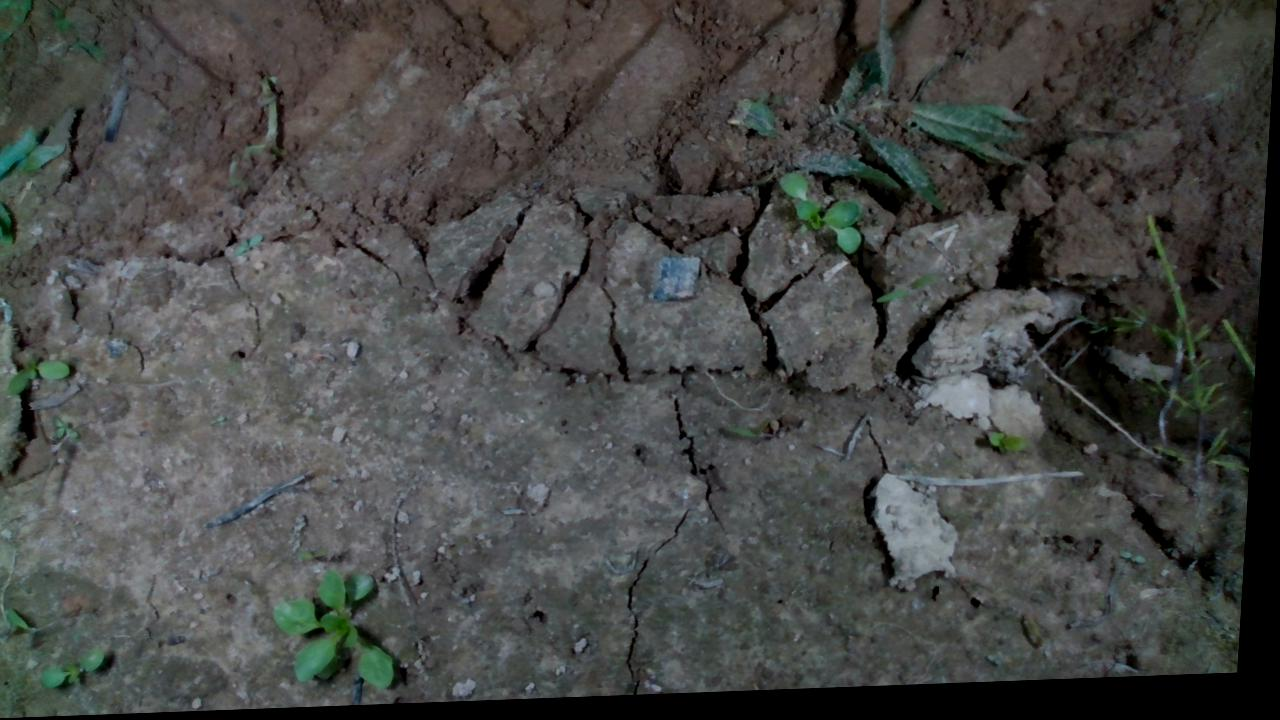weed: (45, 647, 115, 692), (8, 353, 75, 397), (876, 278, 939, 311), (987, 435, 1034, 463), (54, 414, 86, 442), (234, 233, 268, 257), (1124, 556, 1155, 574)
